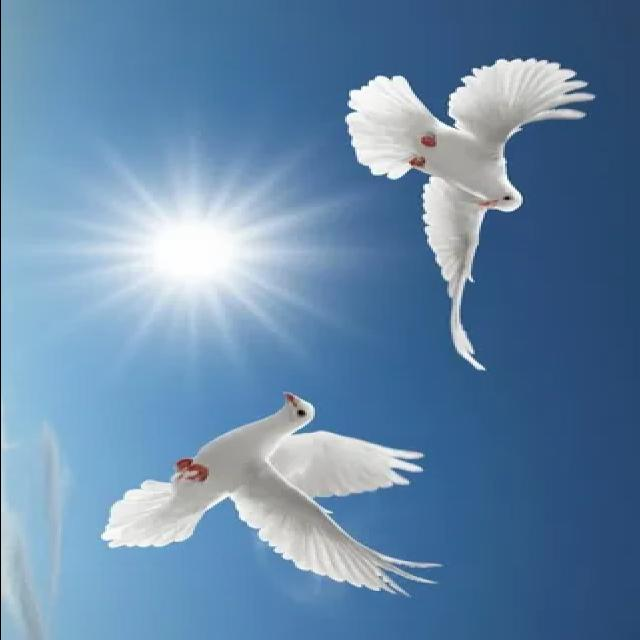pigeon: (344, 41, 604, 372), (87, 394, 429, 610)
